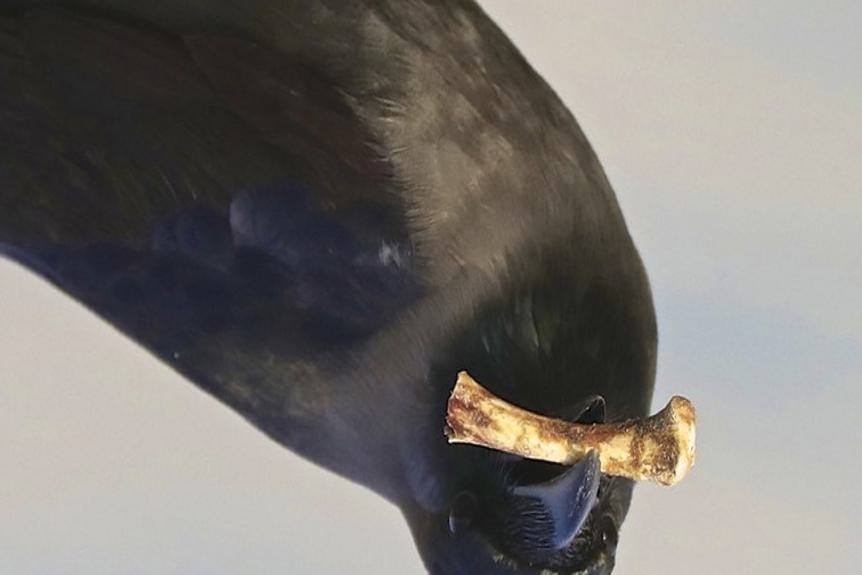crow: (1, 1, 682, 573)
